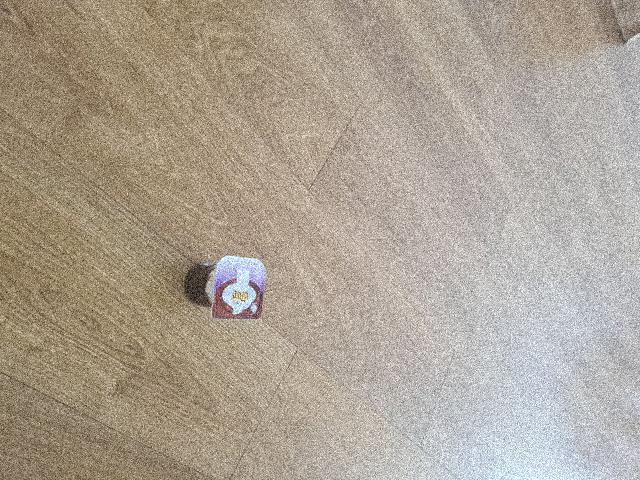milky: (183, 254, 263, 319)
